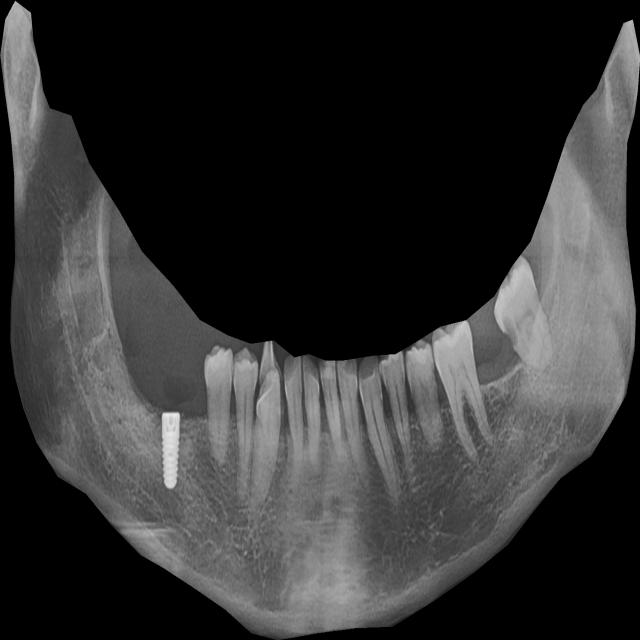mandibula: (0, 1, 640, 640)
